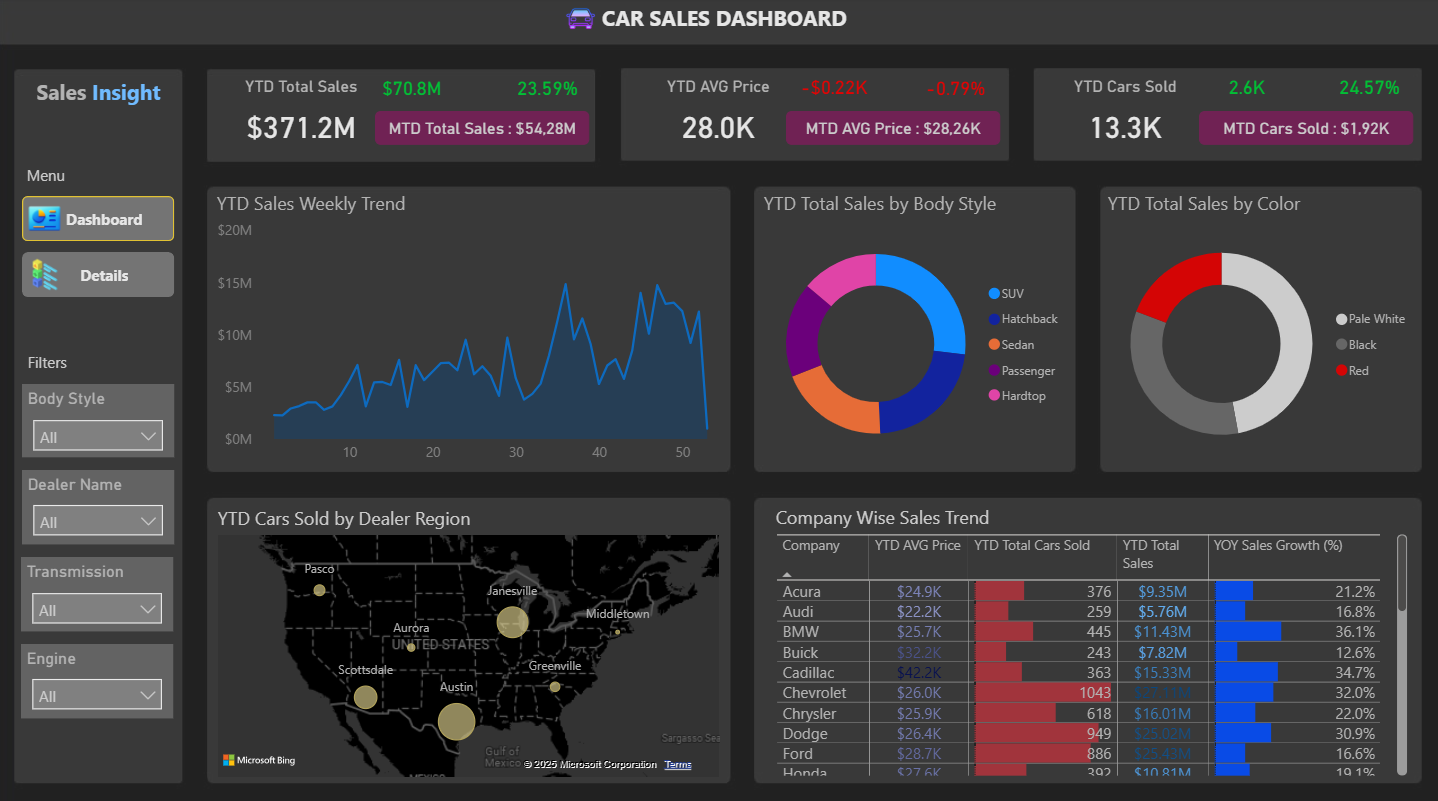

This screenshot's page, from the dashboard's own definition file:
{"tool":"powerbi","page":{"name":"Dashborad","canvas":[1280,720],"ordinal":0},"visuals":[{"type":"lineChart","title":"YTD Sales Weekly Trend","fields":{"Category":["date_table.week_num"],"Y":["Sum(car_data.Price ($))"]},"box":[190,170.9,455,250],"z":0},{"type":"donutChart","title":"YTD Total Sales by Body Style","fields":{"Category":["car_data.Body Style"],"Y":["Sum(car_data.Price ($))"]},"box":[675,170.9,280,250],"z":1000},{"type":"donutChart","title":"YTD Total Sales by Color","fields":{"Category":["car_data.Color"],"Y":["Sum(car_data.Price ($))"]},"box":[980,170.9,282.7,250],"z":2000},{"type":"card","title":"YTD Total Sales","fields":{"Values":["car_data.YTD_sales"]},"box":[190,70,160,70],"z":3000},{"type":"card","title":"YTD AVG Price","fields":{"Values":["car_data.YTD_AVG_Price"]},"box":[559.6,69.7,160,69.7],"z":4000},{"type":"card","title":"YTD Cars Sold","fields":{"Values":["car_data.YTD_Cars_Sold"]},"box":[920.7,69.7,160,69.7],"z":5000},{"type":"card","fields":{"Values":["car_data.visual_MTD_Sales"]},"box":[335,100,190.4,30.4],"z":6000},{"type":"card","fields":{"Values":["car_data.YTD_Sales_Diff"]},"box":[335.2,66.1,65.3,25],"z":7000},{"type":"card","fields":{"Values":["car_data.YOY_Sales_growth"]},"box":[453.2,66.1,69.7,25],"z":8000},{"type":"card","fields":{"Values":["car_data.Concat_MTD_AVG_Price"]},"box":[699.9,100.1,190.4,30.4],"z":9000},{"type":"card","fields":{"Values":["car_data.YOY_AVG_price"]},"box":[815.2,66.1,70,25],"z":10000},{"type":"card","fields":{"Values":["car_data.Diff_YTD_PYTD_AVG_Price"]},"box":[699.9,66,84.9,25],"z":11000},{"type":"card","fields":{"Values":["car_data.Concat_MTD_Cars_Sold"]},"box":[1065.5,100.1,190.4,30.4],"z":12000},{"type":"card","fields":{"Values":["car_data.YOY_Cars_Sold"]},"box":[1181.7,66,69.7,25],"z":13000},{"type":"card","fields":{"Values":["car_data.Diff_Cars_Sold"]},"box":[1065.5,66,84.9,25],"z":14000},{"type":"map","title":"YTD Cars Sold by Dealer Region","fields":{"Category":["car_data.Dealer_Region"],"Size":["car_data.YTD_Cars_Sold"]},"box":[190.4,450,455,245],"z":15000},{"type":"tableEx","title":"Company Wise Sales Trend","fields":{"Values":["car_data.Company","car_data.YTD_AVG_Price","car_data.YTD_Cars_Sold","car_data.YTD_sales","car_data.YOY_Sales_growth"]},"box":[685.6,449.6,570.3,244.9],"z":16000},{"type":"textbox","box":[376.3,0,538.1,37.5],"z":17000},{"type":"image","box":[493.4,0,48.4,37.5],"z":18000},{"type":"slicer","title":"Body Style","fields":{"Values":["car_data.Body Style"]},"box":[21.9,342.6,134.8,65],"z":19000},{"type":"slicer","title":"Dealer Name","fields":{"Values":["car_data.Dealer_Name"]},"box":[21.9,418.8,134.8,65.6],"z":20000},{"type":"slicer","title":"Transmission","fields":{"Values":["car_data.Transmission"]},"box":[21.7,495.6,135.2,65.8],"z":21000},{"type":"slicer","title":"Engine","fields":{"Values":["car_data.Engine"]},"box":[21.7,572.6,135.2,65.8],"z":22000},{"type":"textbox","box":[22.2,309.5,95.8,32.8],"z":23000},{"type":"actionButton","title":"Dashborad","box":[22.2,175.5,135,40],"z":24000},{"type":"actionButton","box":[22.2,225.2,135,40],"z":25000},{"type":"textbox","box":[21.3,143.6,126.8,27.5],"z":26000},{"type":"textbox","box":[14.2,65.6,151.6,34.6],"z":27000}]}

Visuals, with their boxes on the page's 1280x720 design canvas (x1, y1, x2, y2). These are canvas units, not pixel positions in the 1438x801 screenshot, which may show the page scaled, cropped or inside an application window:
"YTD Sales Weekly Trend" lineChart: detection(190, 171, 645, 421)
"YTD Total Sales by Body Style" donutChart: detection(675, 171, 955, 421)
"YTD Total Sales by Color" donutChart: detection(980, 171, 1263, 421)
"YTD Total Sales" card: detection(190, 70, 350, 140)
"YTD AVG Price" card: detection(560, 70, 720, 139)
"YTD Cars Sold" card: detection(921, 70, 1081, 139)
card - car_data.visual_MTD_Sales: detection(335, 100, 525, 130)
card - car_data.YTD_Sales_Diff: detection(335, 66, 400, 91)
card - car_data.YOY_Sales_growth: detection(453, 66, 523, 91)
card - car_data.Concat_MTD_AVG_Price: detection(700, 100, 890, 130)
card - car_data.YOY_AVG_price: detection(815, 66, 885, 91)
card - car_data.Diff_YTD_PYTD_AVG_Price: detection(700, 66, 785, 91)
card - car_data.Concat_MTD_Cars_Sold: detection(1066, 100, 1256, 130)
card - car_data.YOY_Cars_Sold: detection(1182, 66, 1251, 91)
card - car_data.Diff_Cars_Sold: detection(1066, 66, 1150, 91)
"YTD Cars Sold by Dealer Region" map: detection(190, 450, 645, 695)
"Company Wise Sales Trend" tableEx: detection(686, 450, 1256, 694)
textbox: detection(376, 0, 914, 38)
image: detection(493, 0, 542, 38)
"Body Style" slicer: detection(22, 343, 157, 408)
"Dealer Name" slicer: detection(22, 419, 157, 484)
"Transmission" slicer: detection(22, 496, 157, 561)
"Engine" slicer: detection(22, 573, 157, 638)
textbox: detection(22, 310, 118, 342)
"Dashborad" actionButton: detection(22, 176, 157, 216)
actionButton: detection(22, 225, 157, 265)
textbox: detection(21, 144, 148, 171)
textbox: detection(14, 66, 166, 100)
